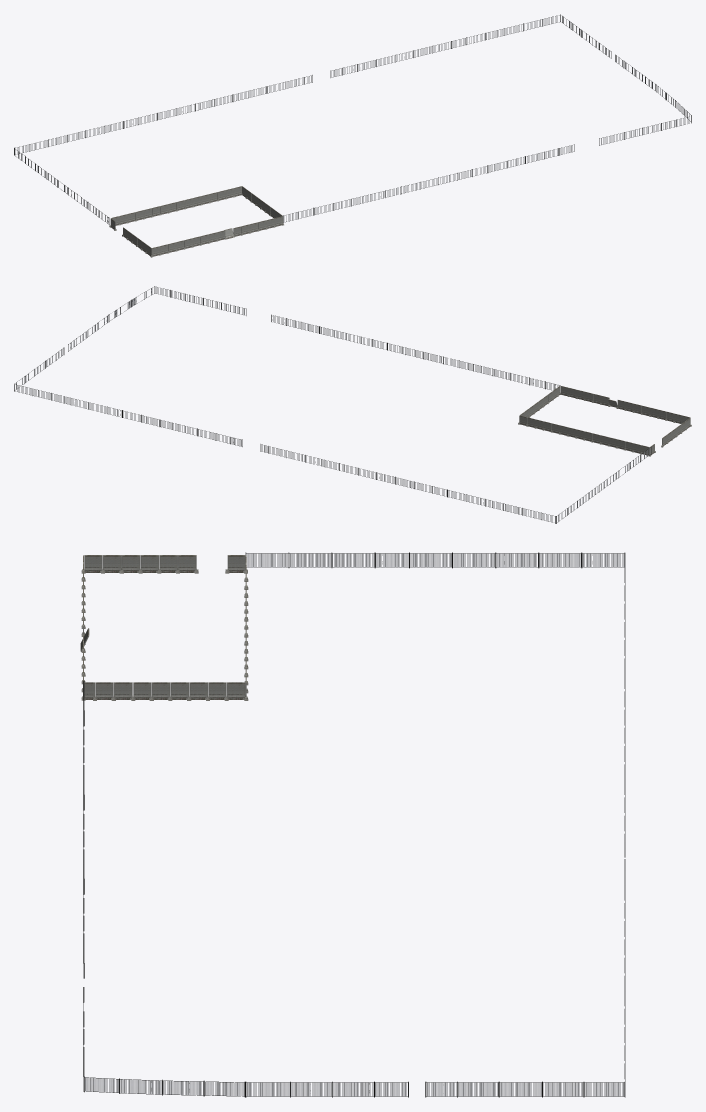
Rendered from zaborec.obj.
3 renders of one model, top to bottom at view 1: azimuth 30°, elevation 25°; view 2: azimuth 150°, elevation 25°; view 3: azimuth 270°, elevation 25°, orthographic. The views are drawn at different scales.
Parts seen in each view (by area): view 1: 1995_fence.002; view 2: 1995_fence.002; view 3: 1995_fence.002.
Boxes of the visible parts, bbox=[...] form: 1995_fence.002: bbox=[14, 14, 691, 257]; 1995_fence.002: bbox=[14, 286, 691, 523]; 1995_fence.002: bbox=[80, 552, 625, 1097].
Bounding box in the file's own units: 218 × 3.69 × 94.9.
